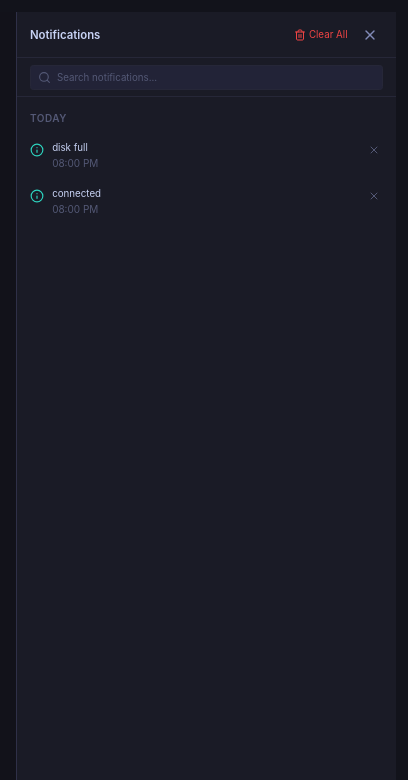
Scenario: NotificationHistoryPanel › filters notifications by search query
The image size is (408, 780).
Expected: the text "disk full" is shown, [52,142,88,153]
Type "disk" into the field with placeholder "Search notifications..." at coordinates (216, 77), box [57,71,376,84]
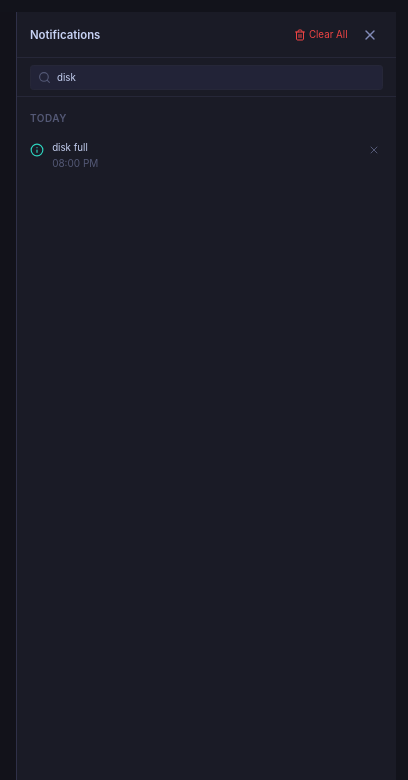
Expected: the text "disk full" is shown, [52,142,88,153]
Expected: the text "connected" is gone
